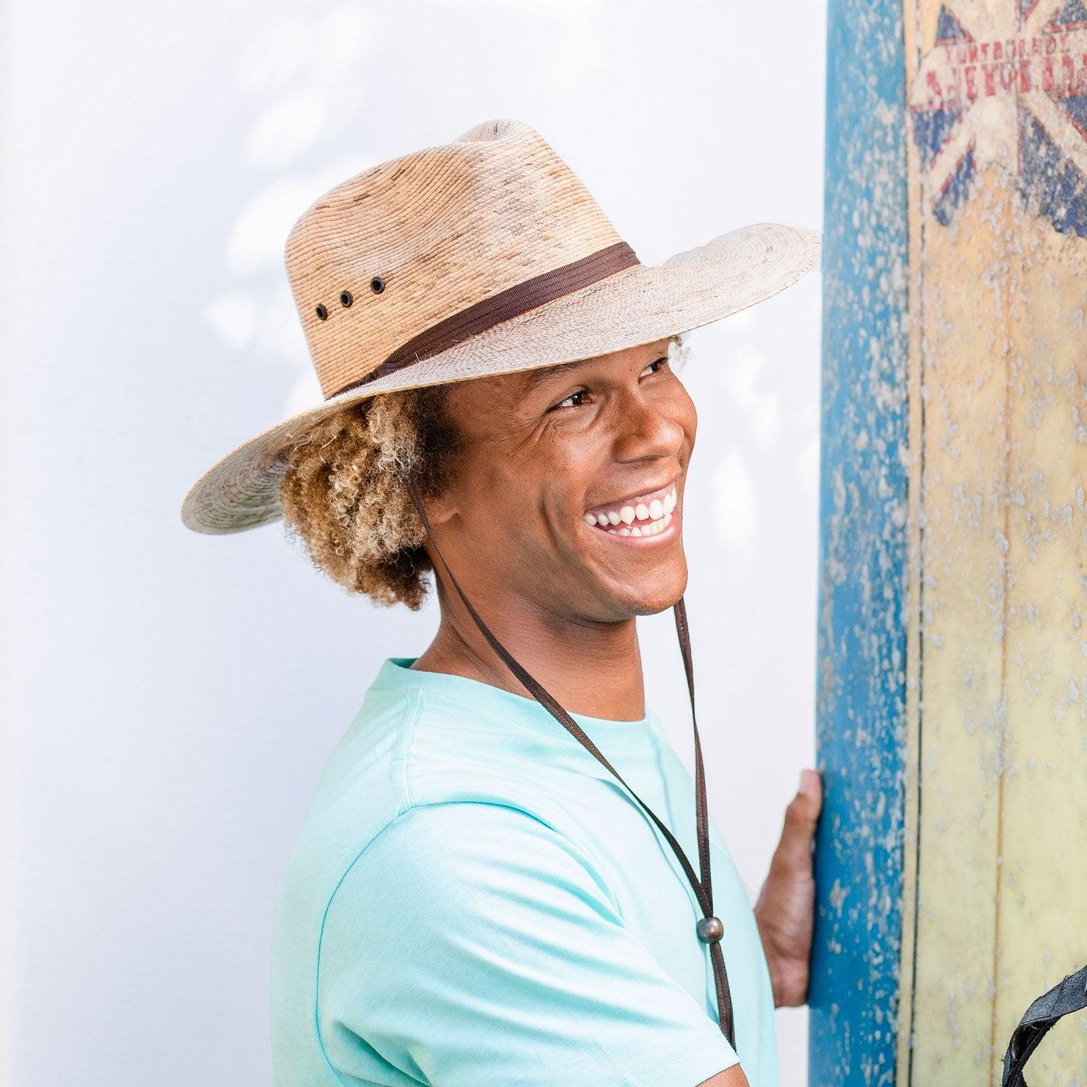cap: (163, 91, 848, 536)
